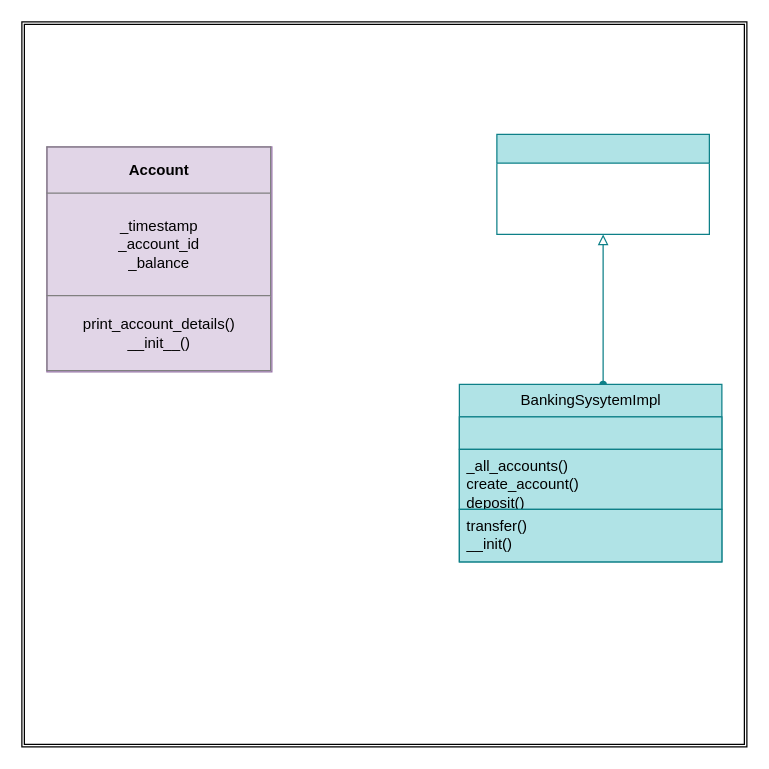
Image size: 769x769. Some labels were removed from this diagram. The centre of each missing label's shape, as x and y in pixels:
_find_acccount(): [590,432]
BankingSystem: [602,183]
